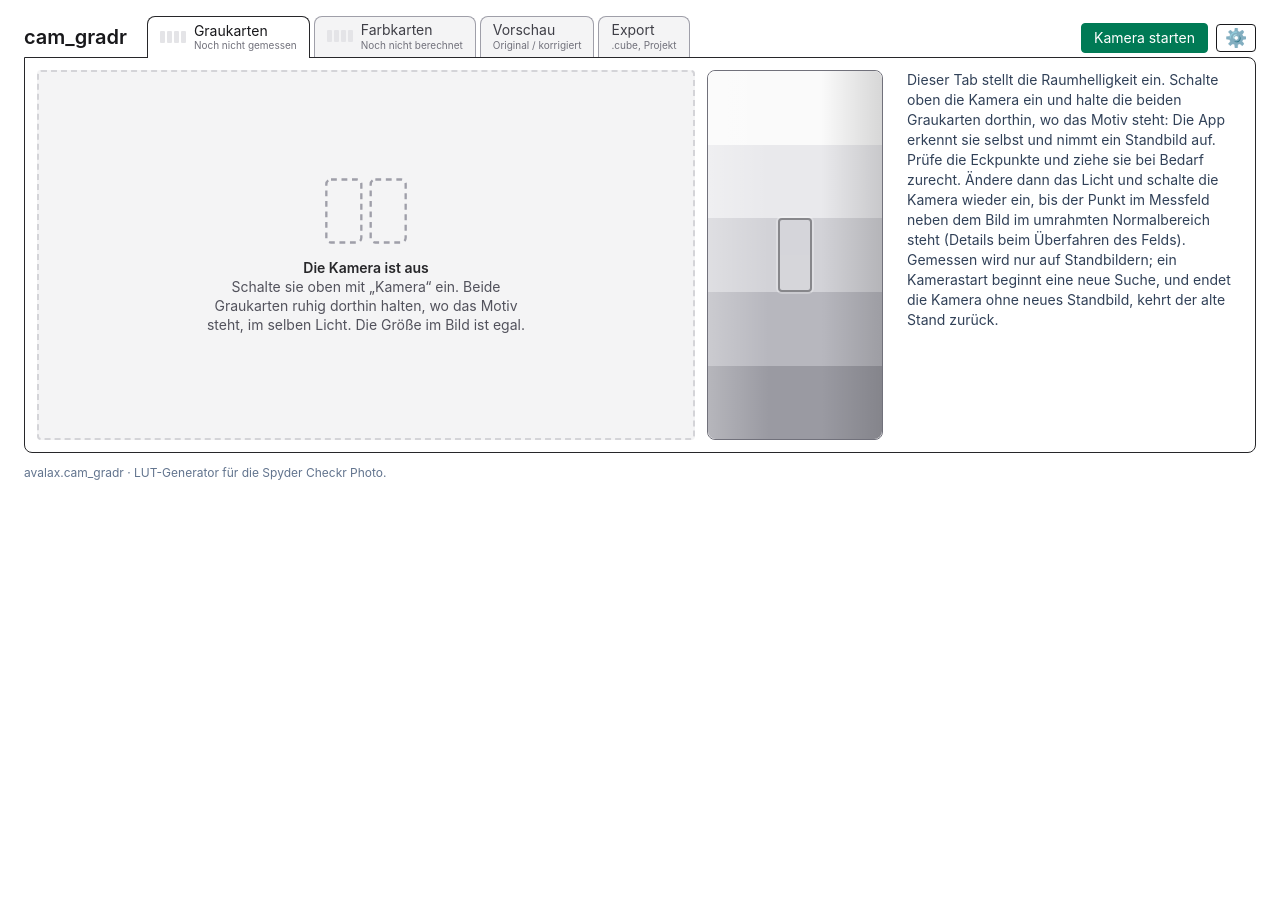
Test: App › offers reference values in the gear menu and the project in the export tab
Click the button with test id "settings-button": (1236, 38) [1216,24,1256,52]
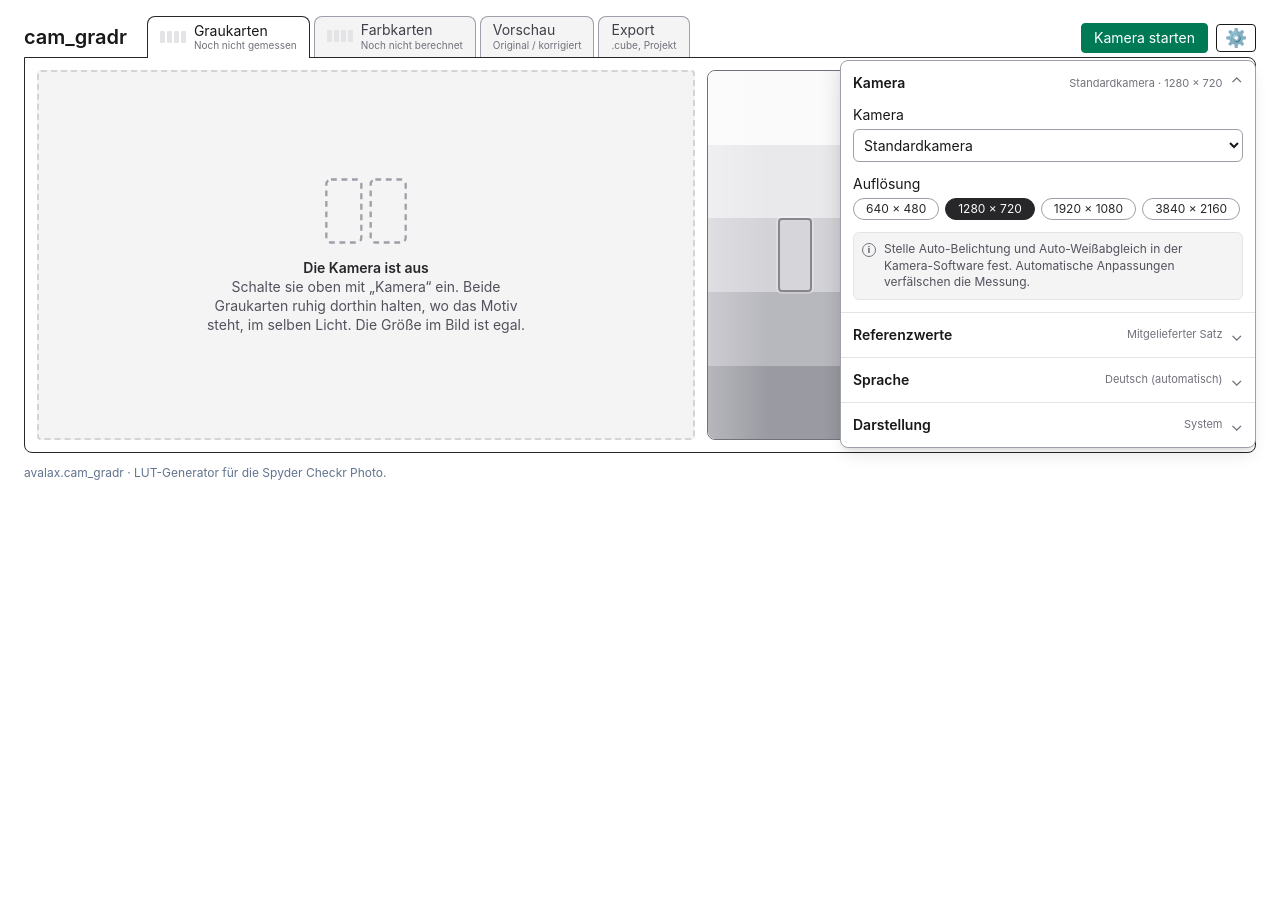
Click the button with test id "section-reference": (903, 334) [841,312,1255,356]
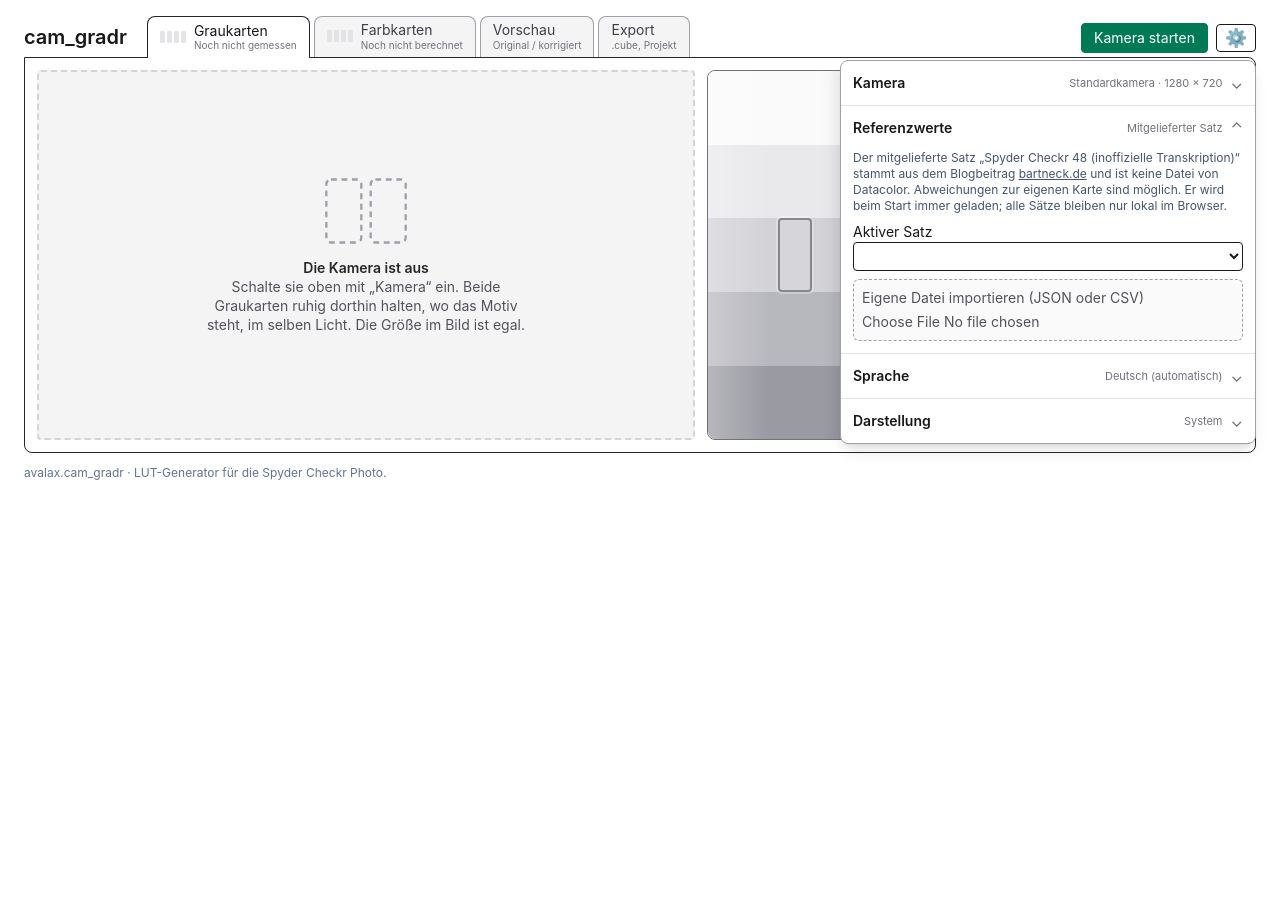
Expected: the dropdown with test id "reference-select" is shown, [853,242,1243,271]
Click the tab "Export .cube, Projekt": (644, 36) [598,16,690,57]
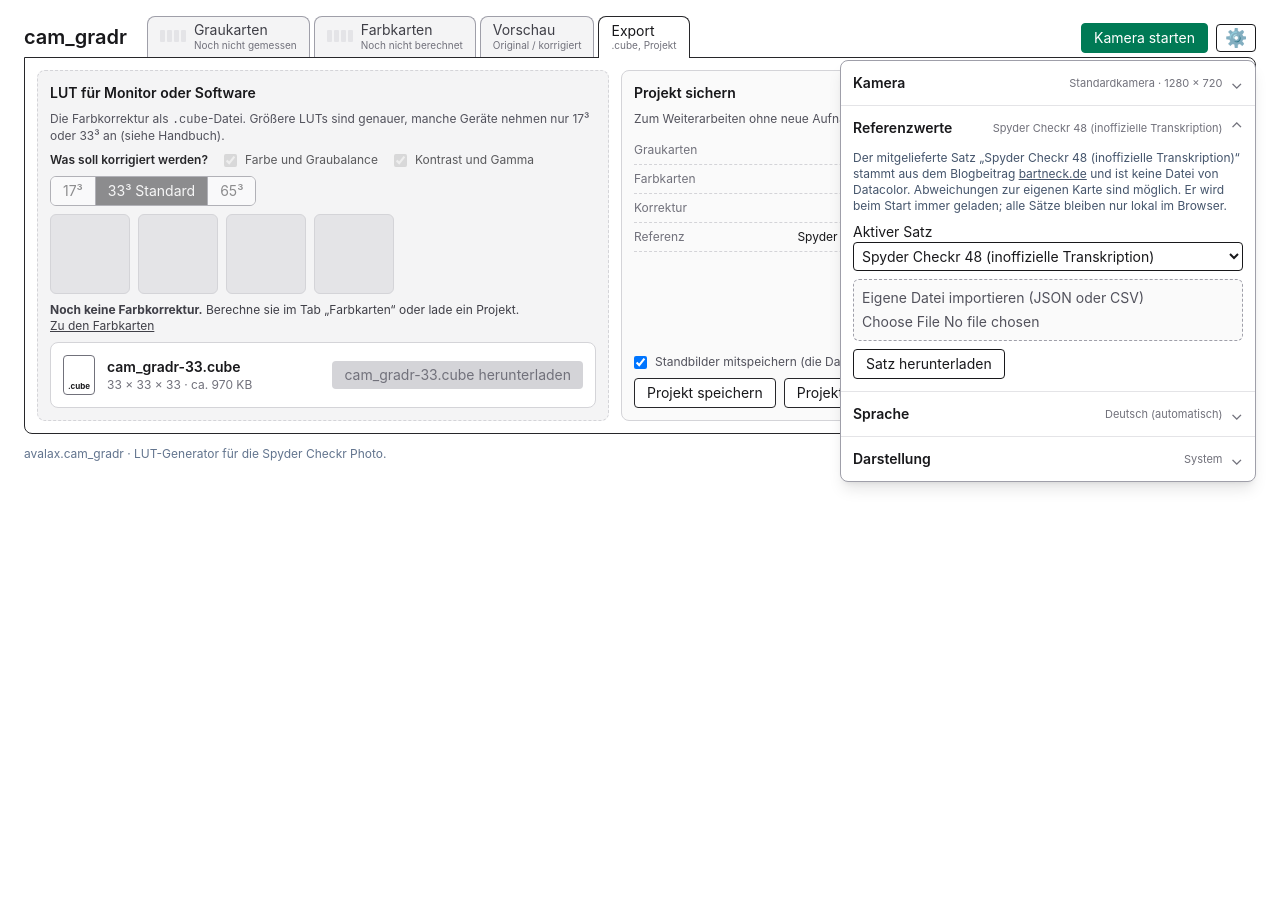
Expected: the button with test id "project-save" is shown, [634,378,776,408]
Expected: the file field with test id "project-file" is shown, [784,378,896,408]
